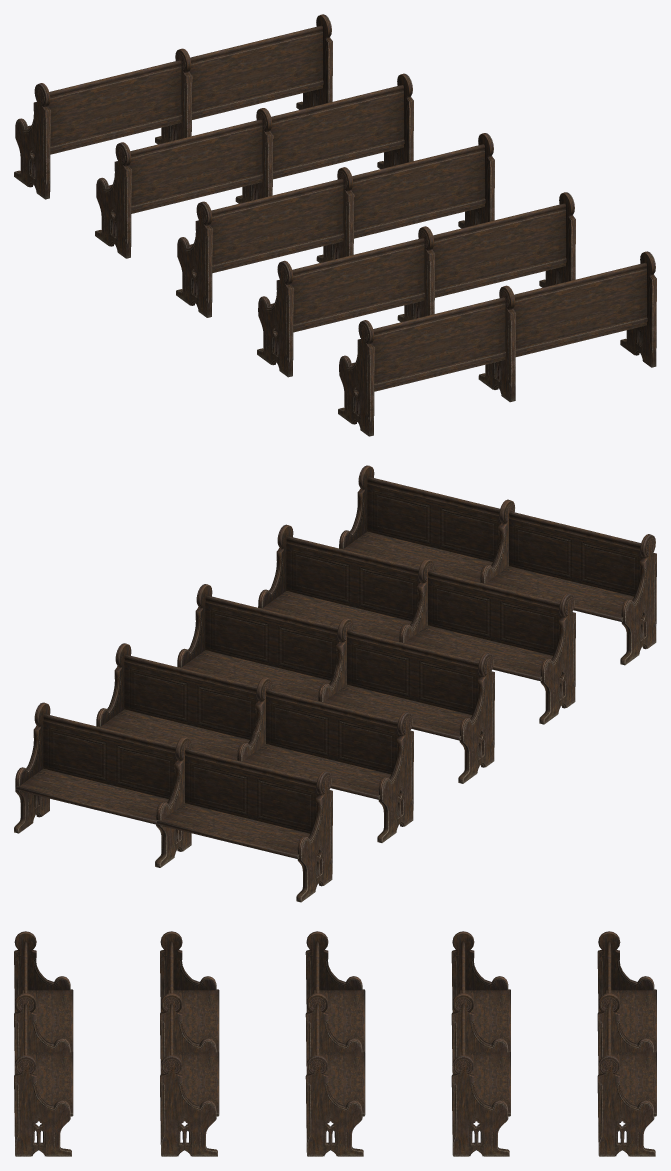
The model's file is ASIENTOS.glb.
3 renders of one model, top to bottom at view 1: azimuth 30°, elevation 25°; view 2: azimuth 150°, elevation 25°; view 3: azimuth 270°, elevation 25°, orthographic. The views are drawn at different scales.
Visible parts, largest first — view 1: Object_2.002; view 2: Object_2.002; view 3: Object_2.002.
Part boxes in pixels (box(x1,y1,x2,y2)): Object_2.002: box(14, 14, 656, 436); Object_2.002: box(14, 465, 656, 902); Object_2.002: box(14, 931, 656, 1156).
Size of the model in its own units: 2.95 by 1.08 by 6.34.
1 material, 1 textured.
